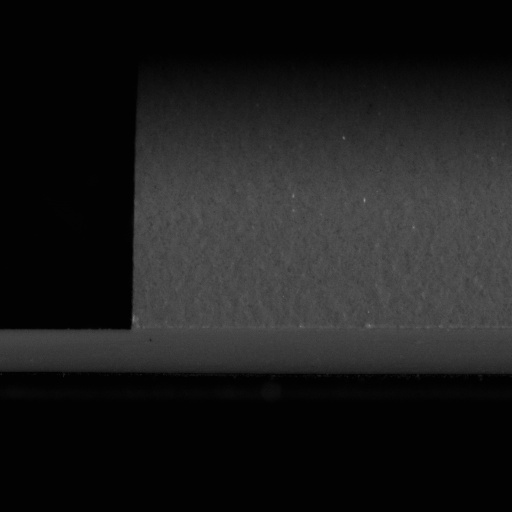changdai: (0, 327, 132, 377)
